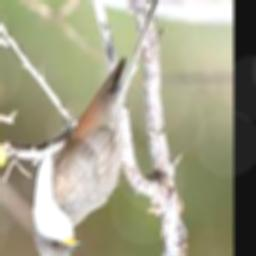Cuckoo: (30, 0, 162, 256)
